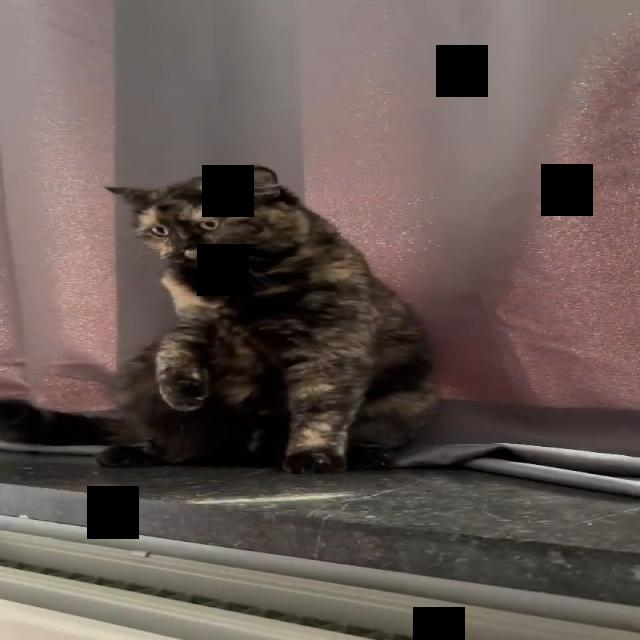authorized: (96, 163, 441, 474)
